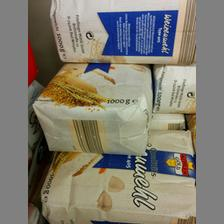Mehl: (40, 129, 194, 223), (30, 63, 154, 156), (48, 0, 194, 64)
